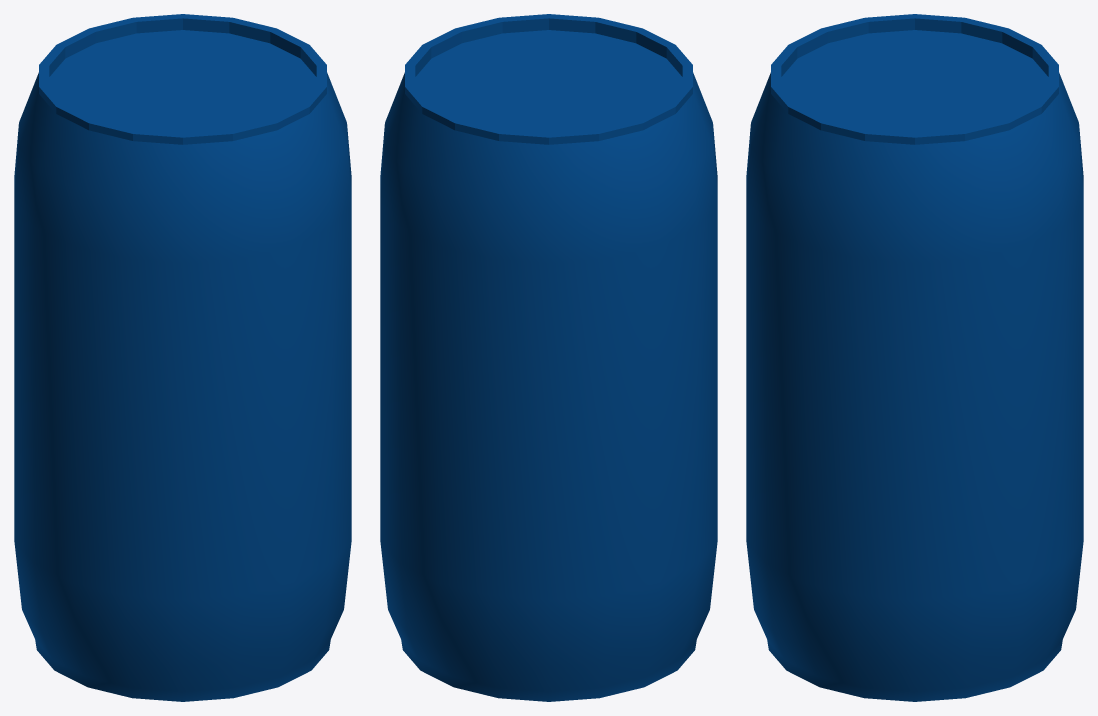
Rendered from umgebung_dose_1_low.FBX.
The picture shows the model from 3 angles, left to right: view 1: azimuth 30°, elevation 25°; view 2: azimuth 150°, elevation 25°; view 3: azimuth 270°, elevation 25°; orthographic projection.
Parts seen in each view (by area): view 1: o_dose_1_low; view 2: o_dose_1_low; view 3: o_dose_1_low.
Part boxes in pixels (x1,y1,x2,y2): o_dose_1_low: (14,14,351,701); o_dose_1_low: (380,14,717,701); o_dose_1_low: (746,14,1083,701).
Bounding box in the file's own units: 8.87 × 8.73 × 16.09.
